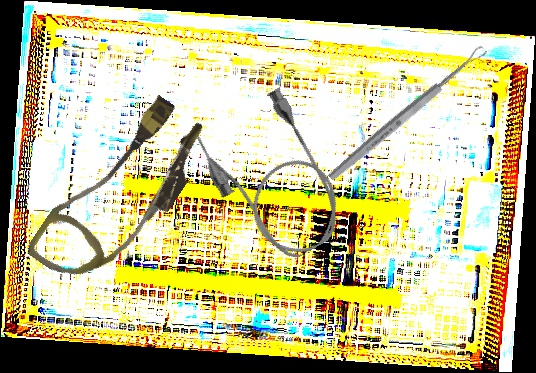Cannula: (23, 81, 220, 306), (184, 79, 358, 276)
Surgical Spoon: (326, 43, 489, 184)
